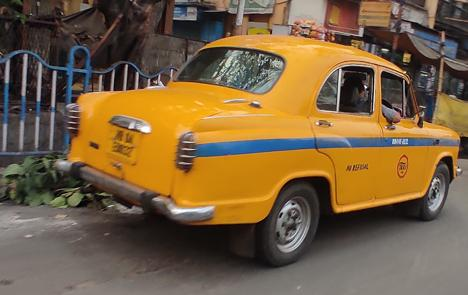Car: (44, 26, 467, 274)
